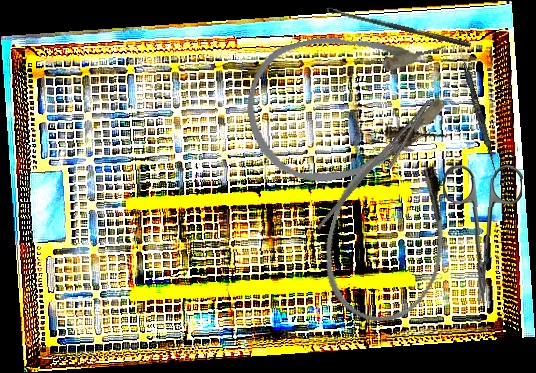Cannula: (234, 10, 470, 196), (309, 112, 473, 335)
Iris Scissors: (439, 163, 523, 308)
Needle Holder: (316, 87, 442, 249)
Spatula Surgical: (452, 37, 502, 175)
Surgical Spoon: (326, 6, 472, 48)
